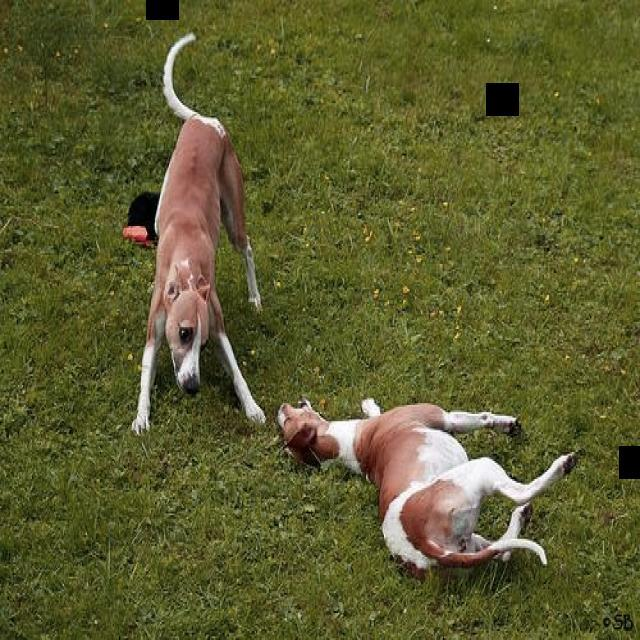adult_dog: (272, 394, 579, 578), (127, 30, 266, 436)
